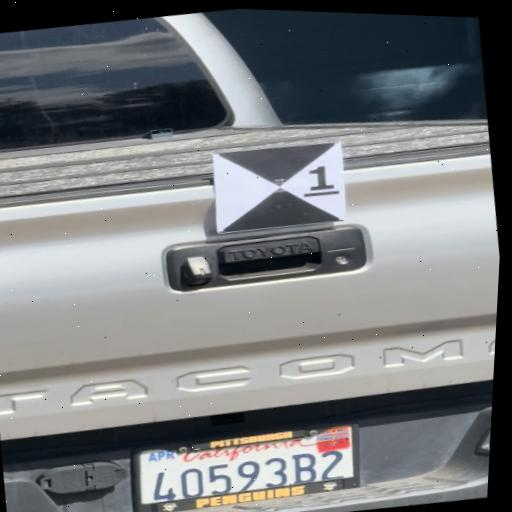target1: (209, 137, 347, 236)
